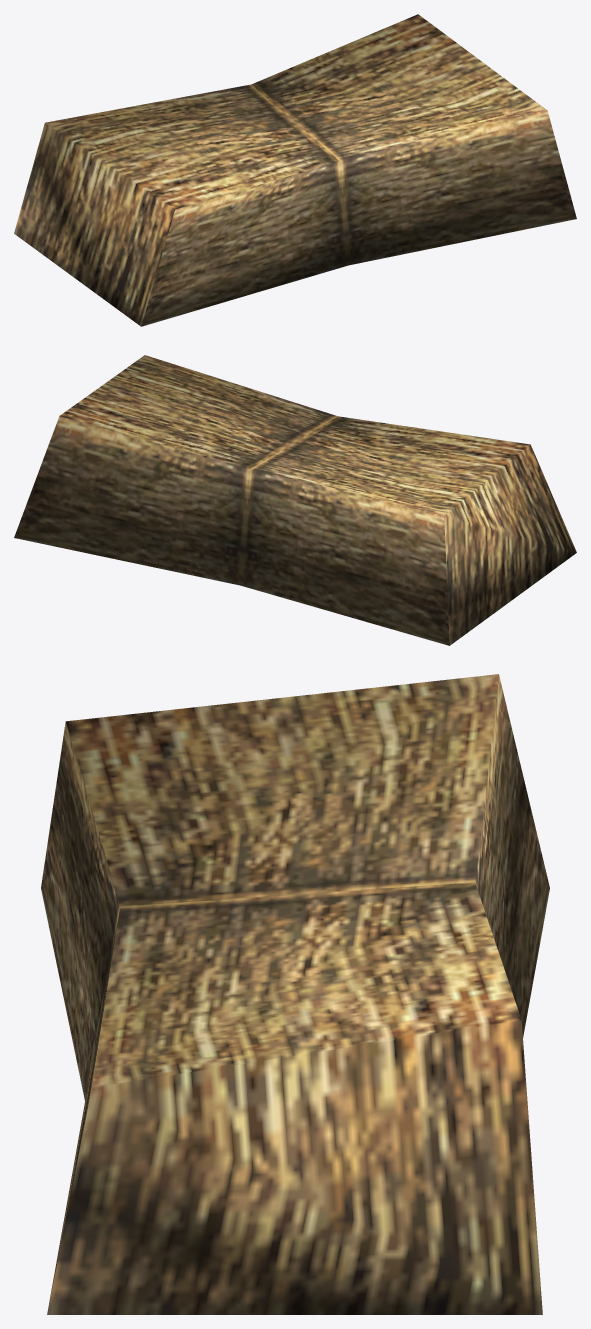
File: hay_01.fbx
The picture shows the model from 3 angles, top to bottom: view 1: azimuth 30°, elevation 25°; view 2: azimuth 150°, elevation 25°; view 3: azimuth 270°, elevation 25°; orthographic projection. The views are drawn at different scales.
Visible parts, largest first — view 1: Hay_01; view 2: Hay_01; view 3: Hay_01.
Boxes of the visible parts, <box> form: Hay_01: <box>14,14,576,326</box>; Hay_01: <box>14,355,576,645</box>; Hay_01: <box>41,674,549,1314</box>.
Size of the model in its own units: 1.54 by 0.43 by 0.7764.
